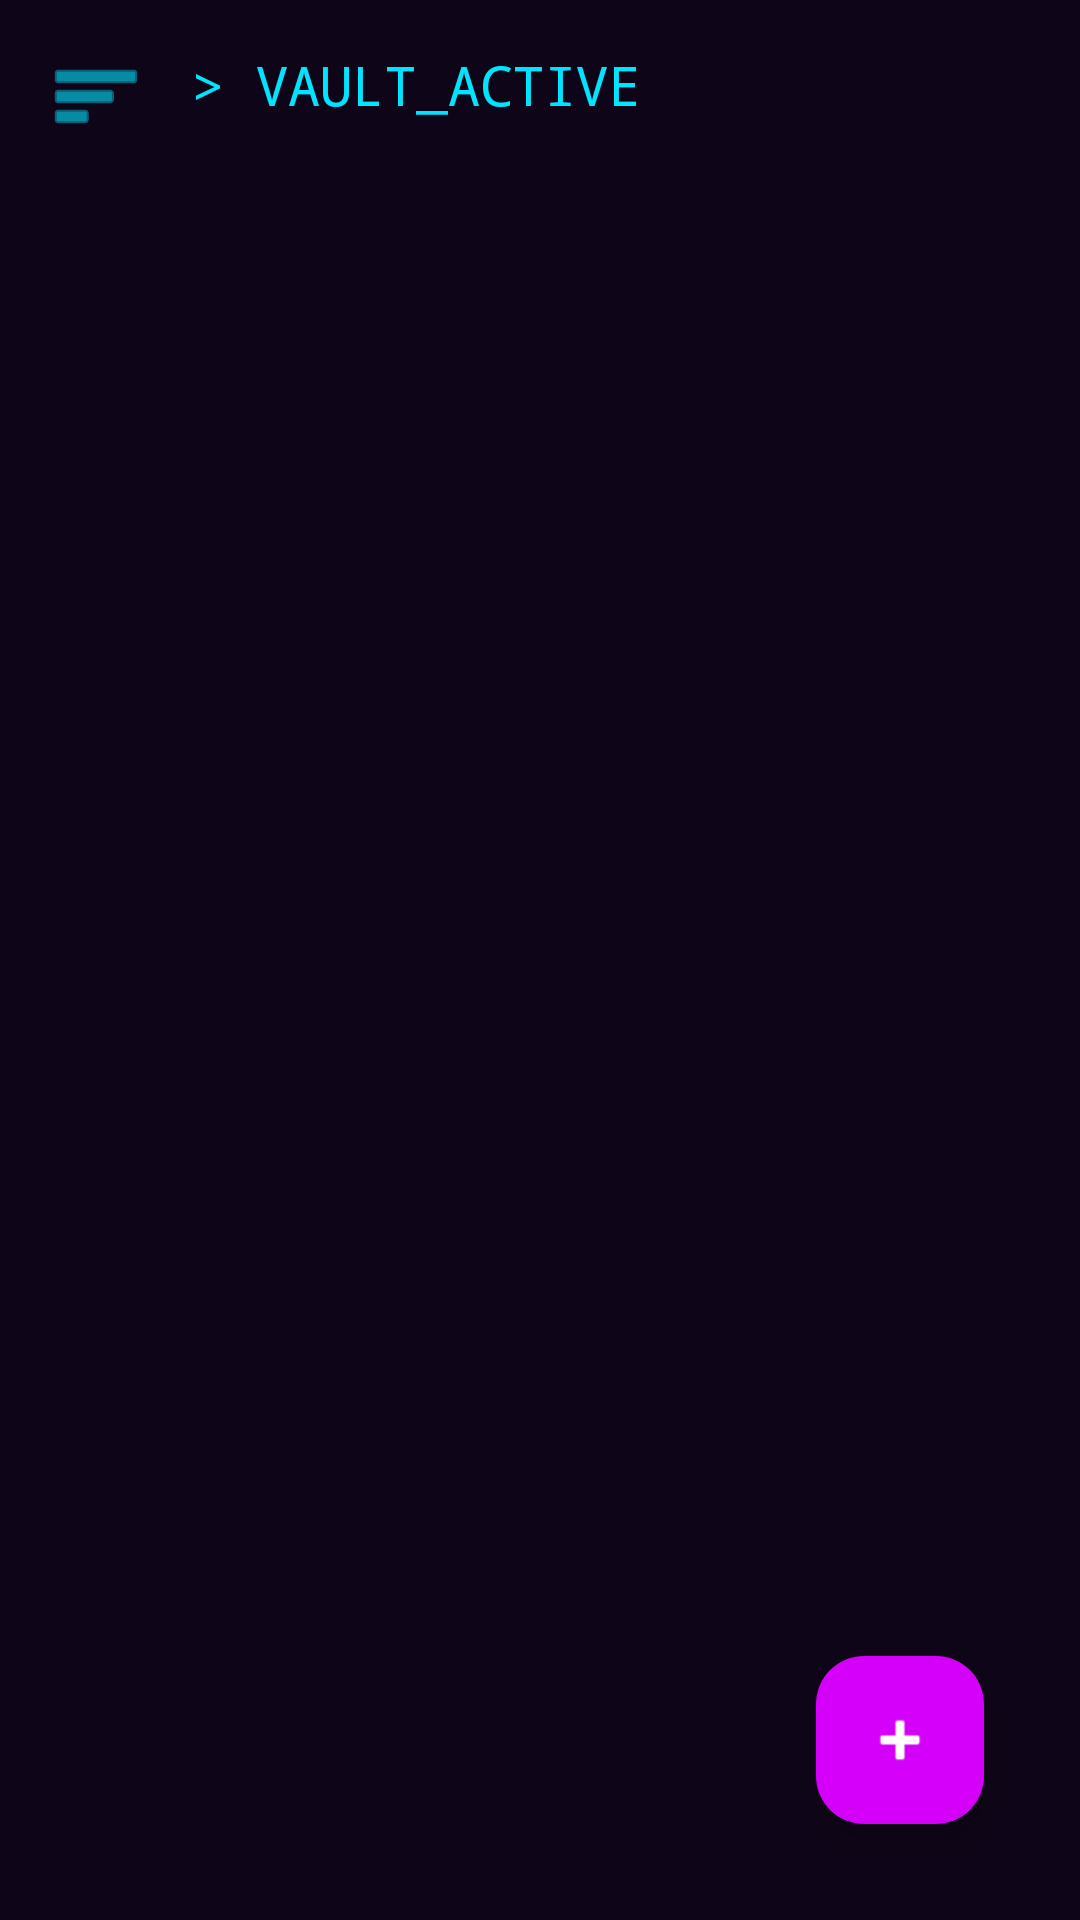

Where to tap for icons on this 1080 x 1920 app screen, as [x,y]:
add: [900,1740]
sort by size: [96,96]
